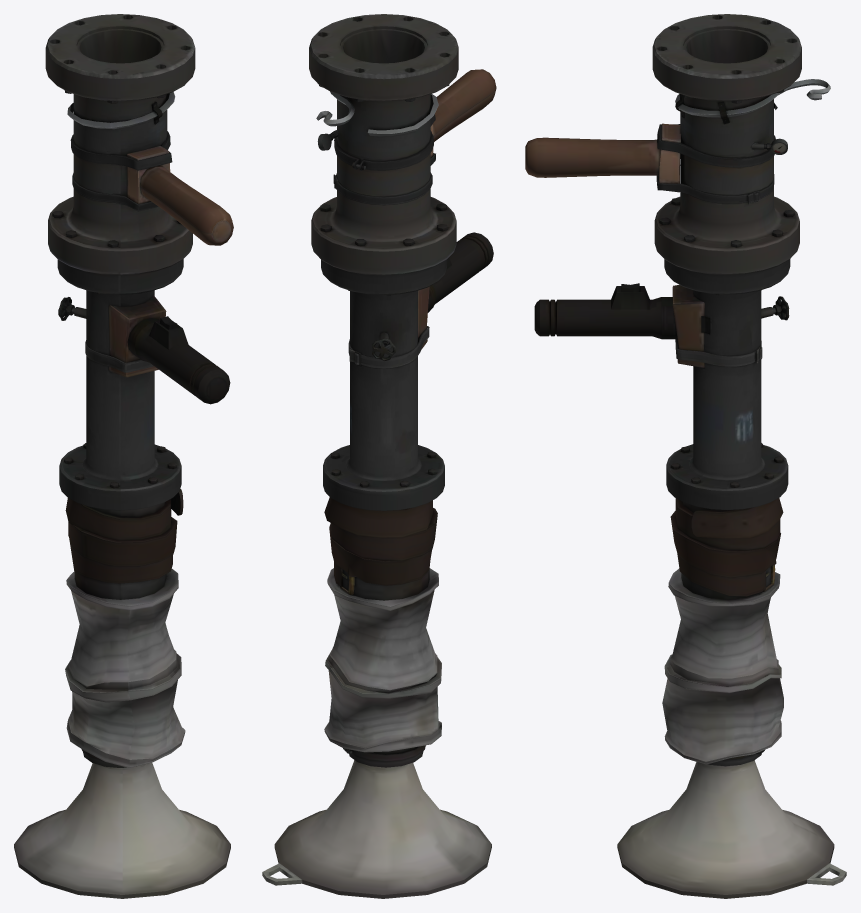
The picture shows the model from 3 angles, left to right: view 1: azimuth 30°, elevation 25°; view 2: azimuth 150°, elevation 25°; view 3: azimuth 270°, elevation 25°; orthographic projection.
Parts seen in each view (by area): view 1: body0_model0_lod0_mesh0; view 2: body0_model0_lod0_mesh0; view 3: body0_model0_lod0_mesh0.
Part boxes in pixels (<box>): body0_model0_lod0_mesh0: <box>14,14,233,898</box>; body0_model0_lod0_mesh0: <box>262,14,496,898</box>; body0_model0_lod0_mesh0: <box>525,14,846,898</box>.
Size of the model in its own units: 13.48 by 55.7 by 20.07.
Materials: 1 (1 with a texture image).
